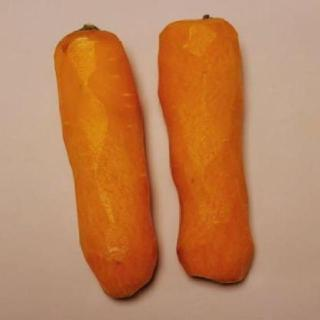carrot: (52, 24, 160, 302), (154, 12, 260, 290)
